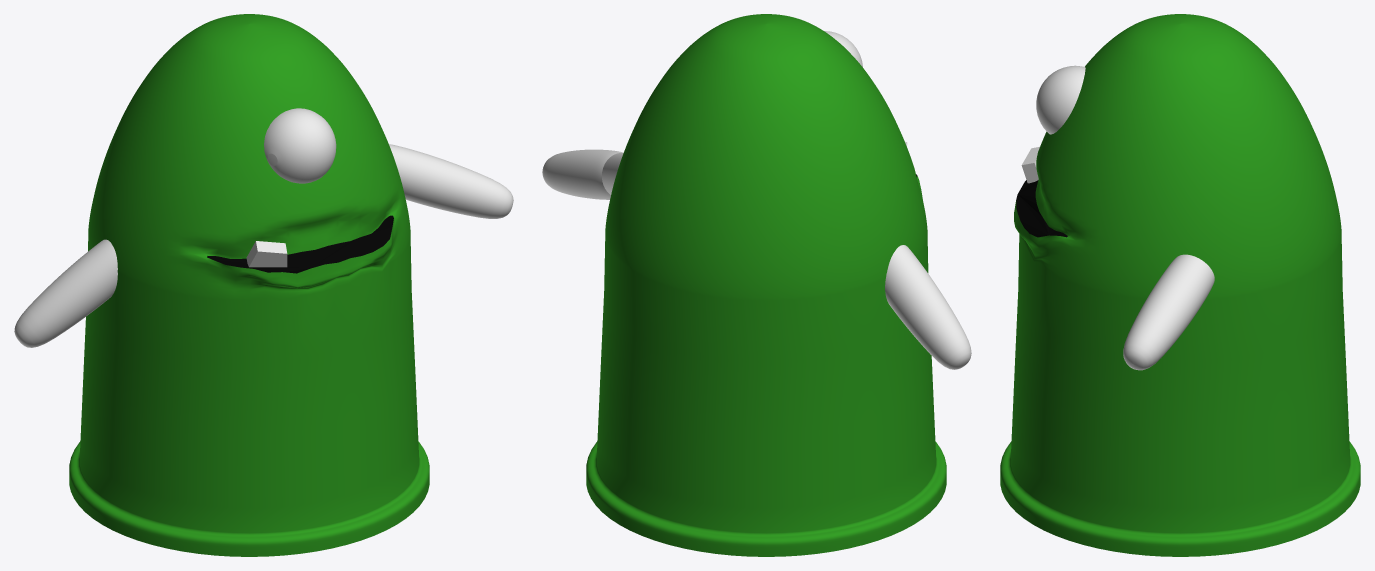
File: alien solo sin animación.FBX
3 renders of one model, left to right at view 1: azimuth 30°, elevation 25°; view 2: azimuth 150°, elevation 25°; view 3: azimuth 270°, elevation 25°, orthographic.
Visible parts, largest first — view 1: cuerpo principal poly, brazo recto, brazo recto001, Ojo Poly, Diente; view 2: cuerpo principal poly, brazo recto, brazo recto001; view 3: cuerpo principal poly, brazo recto001, Ojo Poly.
Boxes of the visible parts, <box> form: cuerpo principal poly: <box>69,14,429,556</box>; brazo recto: <box>14,239,117,347</box>; brazo recto001: <box>389,144,513,218</box>; Ojo Poly: <box>264,108,336,183</box>; Diente: <box>246,241,287,267</box>; cuerpo principal poly: <box>586,14,946,556</box>; brazo recto: <box>885,245,971,369</box>; brazo recto001: <box>542,149,623,199</box>; cuerpo principal poly: <box>1000,14,1360,556</box>; brazo recto001: <box>1123,254,1214,370</box>; Ojo Poly: <box>1036,65,1085,134</box>.
Size of the model in its own units: 88.97 by 84.47 by 60.41.
